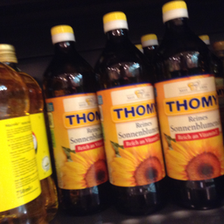oil: (92, 12, 171, 214), (152, 1, 224, 209), (43, 25, 110, 213)
